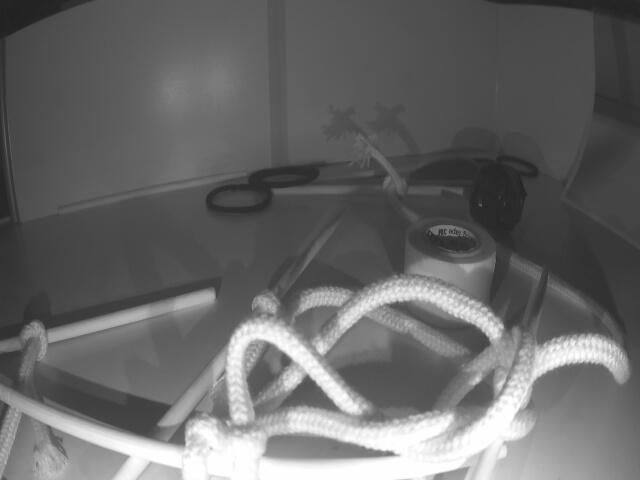Dead: (471, 157, 521, 231)
